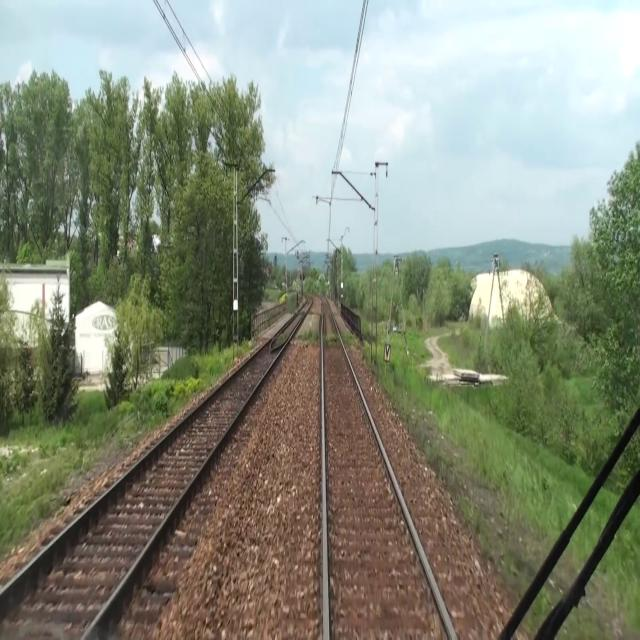rail-track: (0, 343, 280, 639), (323, 299, 451, 639), (272, 297, 311, 345)
